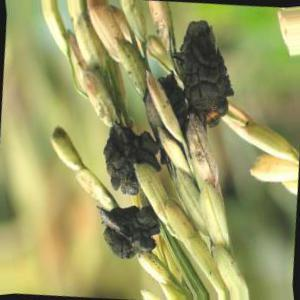Leaf_Scald: (177, 24, 222, 122), (104, 125, 148, 194), (102, 205, 150, 256)
